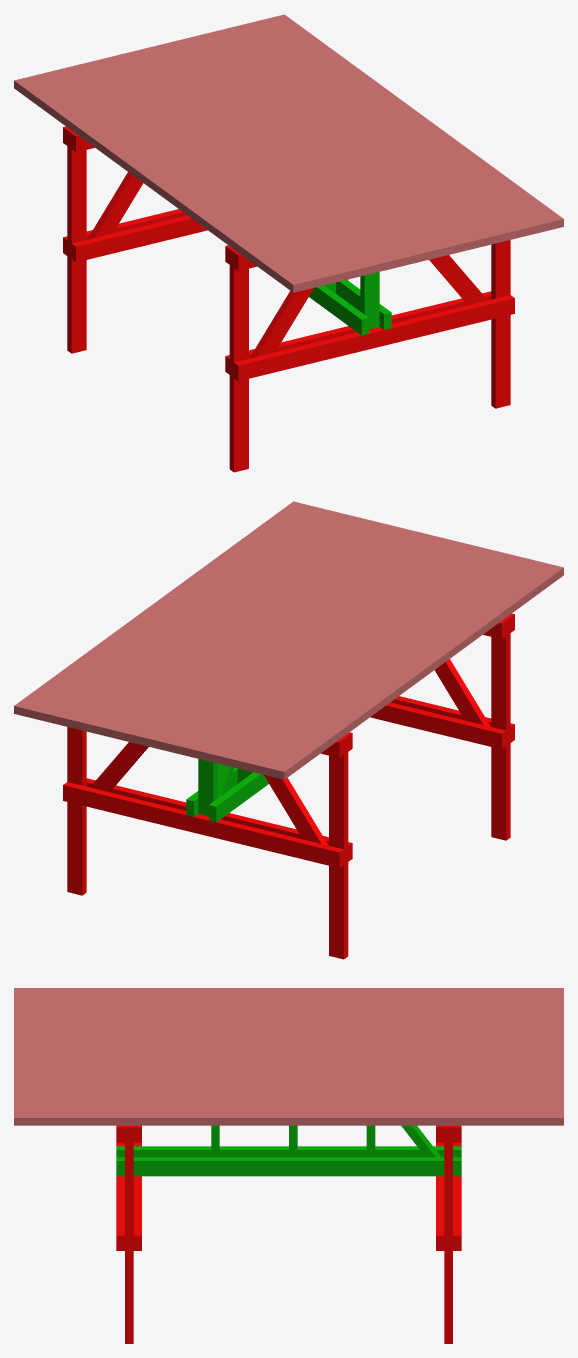
Rendered from result.glb.
3 renders of one model, top to bottom at view 1: azimuth 30°, elevation 25°; view 2: azimuth 150°, elevation 25°; view 3: azimuth 270°, elevation 25°, orthographic.
Parts seen in each view (by area): view 1: d53a52d1-a4e6-4e9c-b8e5-a45f090fb147__Box, 76fa59ff-10c9-425b-bea1-dd62ec59122a__sideH, 91db5f42-bd85-45f0-914d-908b073ca579__undefined, f7c12650-bbea-4016-87ec-65a43028ff6e__undefined, bc4d9fc0-076b-427f-83f5-c6e830a5bc7f__undefined, 32e4fd86-4d49-4f06-97aa-fa309ac6ef94__undefined, 94d0fa56-63d6-45b3-9eb1-ea18a2ebad02__undefined, fd910f4b-8bd2-4787-8901-bbfa54275da3__undefined, 4f9c8f18-359c-4cd1-9dc3-b82f748f97df__undefined, da417e5e-ba63-4842-a790-3c2dd47674b9__undefined, bf39721b-21b1-42ee-931c-01702bef2319__undefined, 6a2e5311-6759-4095-baf4-8b47692df51c__undefined (+19 smaller); view 2: d53a52d1-a4e6-4e9c-b8e5-a45f090fb147__Box, f4afe481-9142-4e4c-8dec-e785fd8e92c9__undefined, 91db5f42-bd85-45f0-914d-908b073ca579__undefined, f7c12650-bbea-4016-87ec-65a43028ff6e__undefined, bc4d9fc0-076b-427f-83f5-c6e830a5bc7f__undefined, 32e4fd86-4d49-4f06-97aa-fa309ac6ef94__undefined, 94d0fa56-63d6-45b3-9eb1-ea18a2ebad02__undefined, fd910f4b-8bd2-4787-8901-bbfa54275da3__undefined, 4f9c8f18-359c-4cd1-9dc3-b82f748f97df__undefined, da417e5e-ba63-4842-a790-3c2dd47674b9__undefined, bf39721b-21b1-42ee-931c-01702bef2319__undefined, 6a2e5311-6759-4095-baf4-8b47692df51c__undefined (+18 smaller); view 3: 1e3b6e2c-9270-43bc-9c55-46811bd8f017__undefined, 55048574-92e4-4ed5-9412-d55fa4ed43c5__strutH, d53a52d1-a4e6-4e9c-b8e5-a45f090fb147__Box, 91db5f42-bd85-45f0-914d-908b073ca579__undefined, bf39721b-21b1-42ee-931c-01702bef2319__undefined, 6a2e5311-6759-4095-baf4-8b47692df51c__undefined, f7c12650-bbea-4016-87ec-65a43028ff6e__undefined, 675166a5-e01b-4bb5-b855-e10d3459d894__undefined, bc4d9fc0-076b-427f-83f5-c6e830a5bc7f__undefined, 32e4fd86-4d49-4f06-97aa-fa309ac6ef94__undefined, 54107a61-8d7d-4c9b-990e-cbf21440c835__undefined, fd910f4b-8bd2-4787-8901-bbfa54275da3__undefined (+15 smaller).
Boxes of the visible parts, left/top/right/bottom form: d53a52d1-a4e6-4e9c-b8e5-a45f090fb147__Box: left=14, top=77, right=308, bottom=292; 76fa59ff-10c9-425b-bea1-dd62ec59122a__sideH: left=234, top=295, right=514, bottom=381; 91db5f42-bd85-45f0-914d-908b073ca579__undefined: left=29, top=73, right=323, bottom=288; f7c12650-bbea-4016-87ec-65a43028ff6e__undefined: left=74, top=62, right=368, bottom=277; bc4d9fc0-076b-427f-83f5-c6e830a5bc7f__undefined: left=104, top=55, right=398, bottom=270; 32e4fd86-4d49-4f06-97aa-fa309ac6ef94__undefined: left=119, top=51, right=413, bottom=266; 94d0fa56-63d6-45b3-9eb1-ea18a2ebad02__undefined: left=164, top=40, right=458, bottom=255; fd910f4b-8bd2-4787-8901-bbfa54275da3__undefined: left=149, top=44, right=443, bottom=259; 4f9c8f18-359c-4cd1-9dc3-b82f748f97df__undefined: left=179, top=36, right=473, bottom=252; da417e5e-ba63-4842-a790-3c2dd47674b9__undefined: left=194, top=33, right=488, bottom=248; bf39721b-21b1-42ee-931c-01702bef2319__undefined: left=44, top=69, right=338, bottom=285; 6a2e5311-6759-4095-baf4-8b47692df51c__undefined: left=59, top=66, right=353, bottom=281; d53a52d1-a4e6-4e9c-b8e5-a45f090fb147__Box: left=269, top=564, right=563, bottom=779; f4afe481-9142-4e4c-8dec-e785fd8e92c9__undefined: left=63, top=782, right=343, bottom=868; 91db5f42-bd85-45f0-914d-908b073ca579__undefined: left=254, top=560, right=548, bottom=775; f7c12650-bbea-4016-87ec-65a43028ff6e__undefined: left=209, top=549, right=503, bottom=764; bc4d9fc0-076b-427f-83f5-c6e830a5bc7f__undefined: left=179, top=542, right=473, bottom=757; 32e4fd86-4d49-4f06-97aa-fa309ac6ef94__undefined: left=164, top=538, right=458, bottom=753; 94d0fa56-63d6-45b3-9eb1-ea18a2ebad02__undefined: left=119, top=527, right=413, bottom=742; fd910f4b-8bd2-4787-8901-bbfa54275da3__undefined: left=134, top=531, right=428, bottom=746; 4f9c8f18-359c-4cd1-9dc3-b82f748f97df__undefined: left=104, top=523, right=398, bottom=739; da417e5e-ba63-4842-a790-3c2dd47674b9__undefined: left=89, top=520, right=383, bottom=735; bf39721b-21b1-42ee-931c-01702bef2319__undefined: left=239, top=556, right=533, bottom=772; 6a2e5311-6759-4095-baf4-8b47692df51c__undefined: left=224, top=553, right=518, bottom=768; 1e3b6e2c-9270-43bc-9c55-46811bd8f017__undefined: left=14, top=1110, right=563, bottom=1125; 55048574-92e4-4ed5-9412-d55fa4ed43c5__strutH: left=116, top=1157, right=461, bottom=1176; d53a52d1-a4e6-4e9c-b8e5-a45f090fb147__Box: left=14, top=988, right=563, bottom=995; 91db5f42-bd85-45f0-914d-908b073ca579__undefined: left=14, top=995, right=563, bottom=1002; bf39721b-21b1-42ee-931c-01702bef2319__undefined: left=14, top=1002, right=563, bottom=1009; 6a2e5311-6759-4095-baf4-8b47692df51c__undefined: left=14, top=1009, right=563, bottom=1016; f7c12650-bbea-4016-87ec-65a43028ff6e__undefined: left=14, top=1017, right=563, bottom=1024; 675166a5-e01b-4bb5-b855-e10d3459d894__undefined: left=14, top=1024, right=563, bottom=1031; bc4d9fc0-076b-427f-83f5-c6e830a5bc7f__undefined: left=14, top=1031, right=563, bottom=1038; 32e4fd86-4d49-4f06-97aa-fa309ac6ef94__undefined: left=14, top=1038, right=563, bottom=1045; 54107a61-8d7d-4c9b-990e-cbf21440c835__undefined: left=14, top=1045, right=563, bottom=1052; fd910f4b-8bd2-4787-8901-bbfa54275da3__undefined: left=14, top=1053, right=563, bottom=1060.
Size of the model in its own units: 920 by 725 by 1610.
